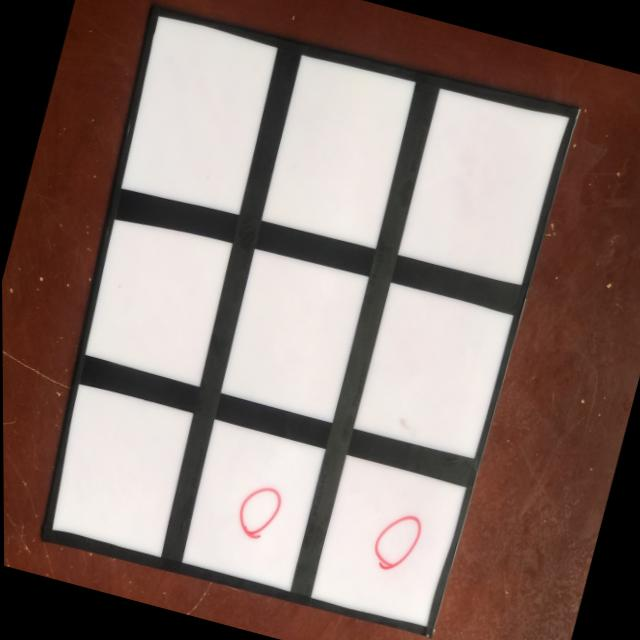null: (115, 16, 286, 223), (395, 85, 566, 285), (255, 52, 419, 252), (349, 278, 514, 465), (39, 378, 197, 558), (215, 244, 372, 423), (77, 215, 235, 386)
o: (364, 503, 428, 578), (230, 476, 286, 544)
table: (23, 6, 580, 640)
